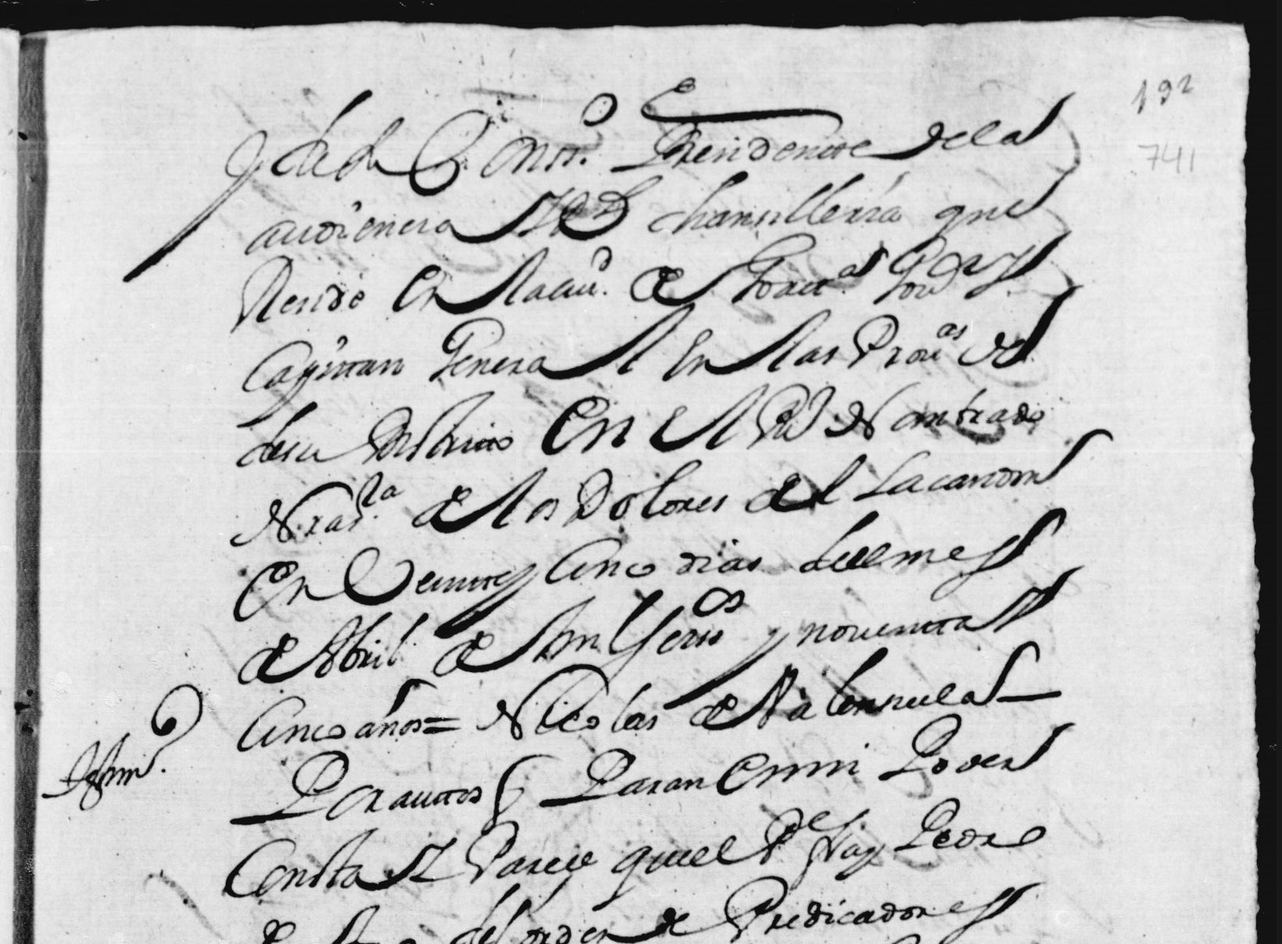lacandon: (853, 429, 1113, 501)
